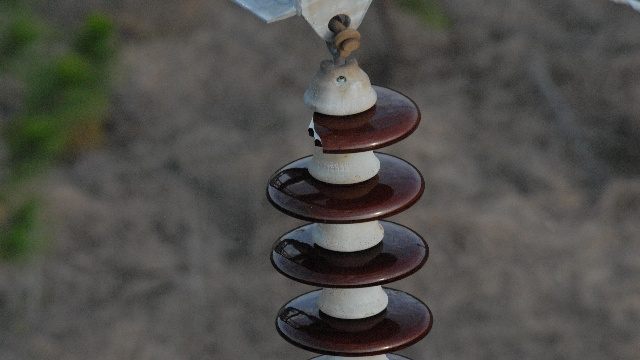broken_local: (305, 100, 329, 153)
insulator_unspecified: (267, 84, 432, 355)
